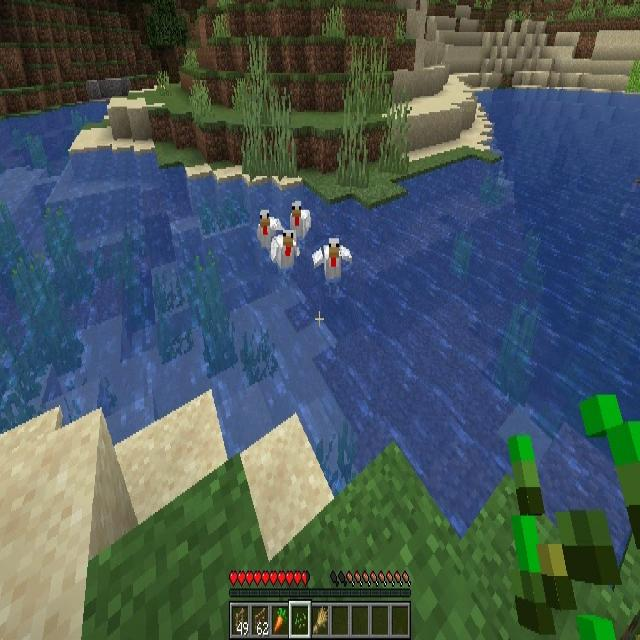duck: (312, 235, 354, 286), (271, 230, 297, 274), (258, 209, 280, 248), (291, 203, 311, 236)
